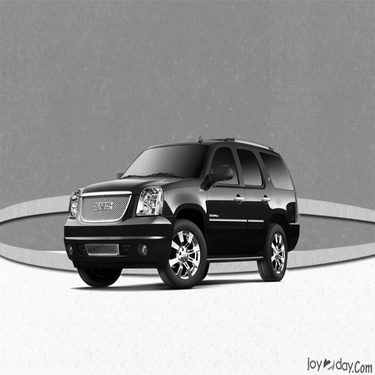car: (53, 129, 302, 294)
